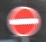No entry: (5, 5, 41, 37)
